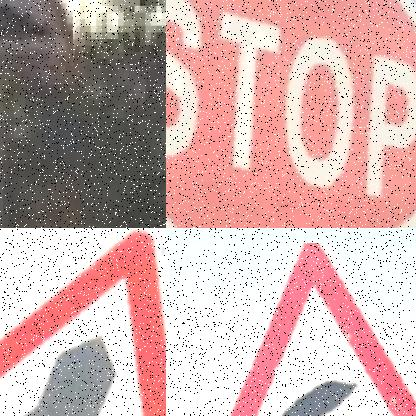Cross Roads: (0, 228, 166, 416), (0, 235, 157, 416)
Right bend: (227, 243, 416, 416), (228, 245, 409, 416)
Stop 2: (166, 0, 416, 228)
